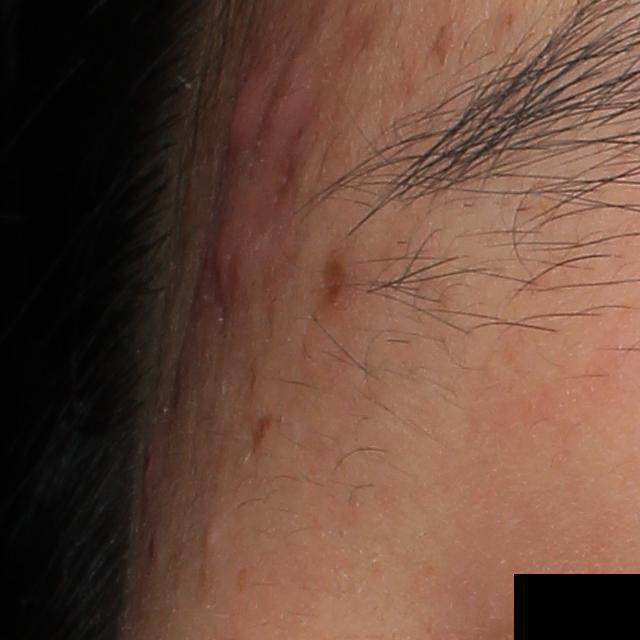comedo: (198, 522, 223, 561)
papule: (256, 42, 323, 158), (213, 64, 263, 171), (203, 210, 253, 295), (136, 436, 161, 507)
